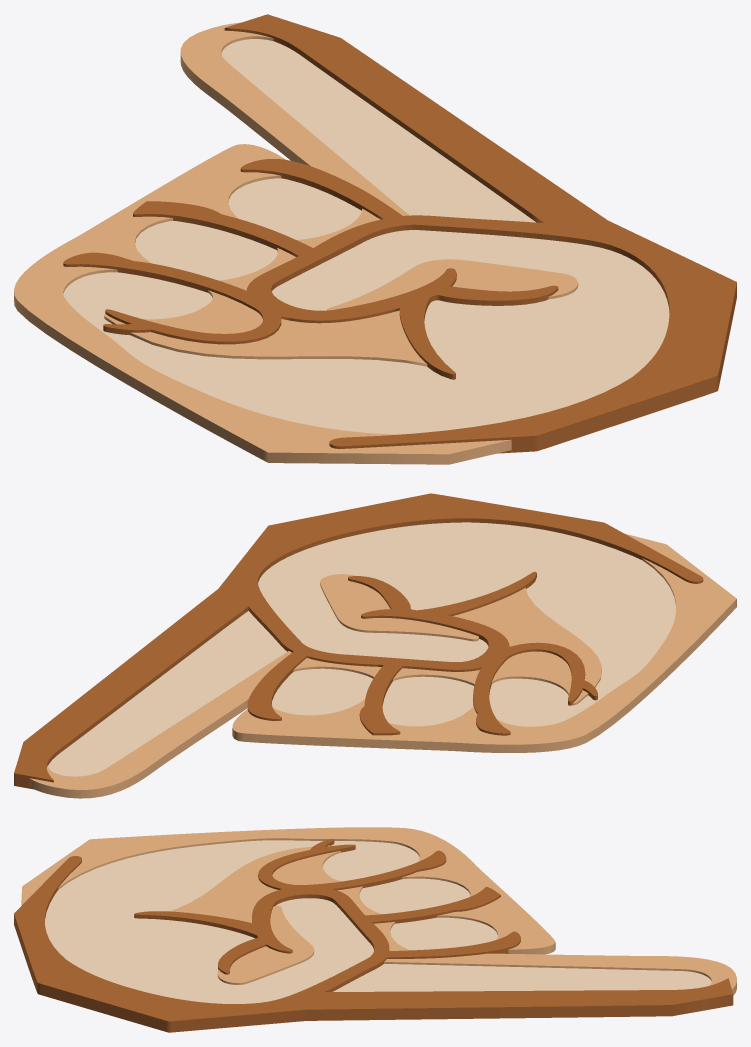
File: emoji_u261d_1f3fb.glb
The picture shows the model from 3 angles, top to bottom: view 1: azimuth 30°, elevation 25°; view 2: azimuth 150°, elevation 25°; view 3: azimuth 270°, elevation 25°; orthographic projection. The views are drawn at different scales.
Parts seen in each view (by area): view 1: emoji_u261d_1f3fb; view 2: emoji_u261d_1f3fb; view 3: emoji_u261d_1f3fb.
Boxes of the visible parts, left/top/right/bottom form: emoji_u261d_1f3fb: left=14, top=14, right=736, bottom=464; emoji_u261d_1f3fb: left=14, top=493, right=736, bottom=798; emoji_u261d_1f3fb: left=14, top=827, right=736, bottom=1032.
Size of the model in its own units: 0.0224 by 0.0006 by 0.035.
